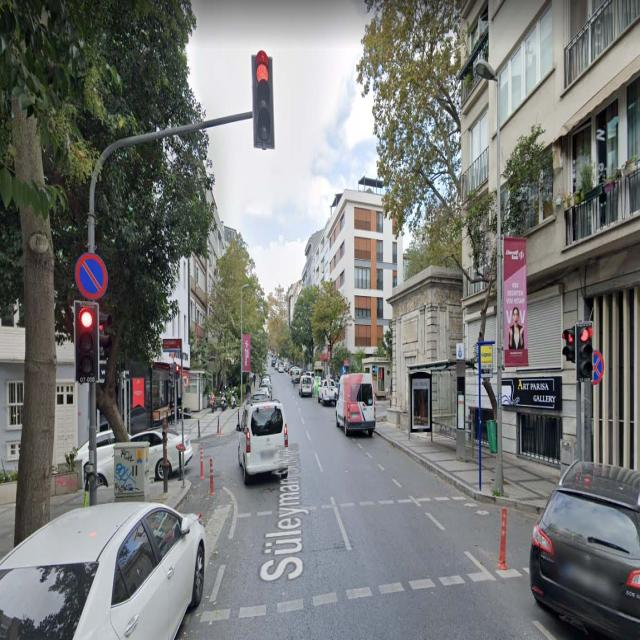kirmizi: (250, 53, 276, 148), (74, 298, 99, 382), (576, 322, 592, 382)
parkyasak: (75, 252, 108, 298)
